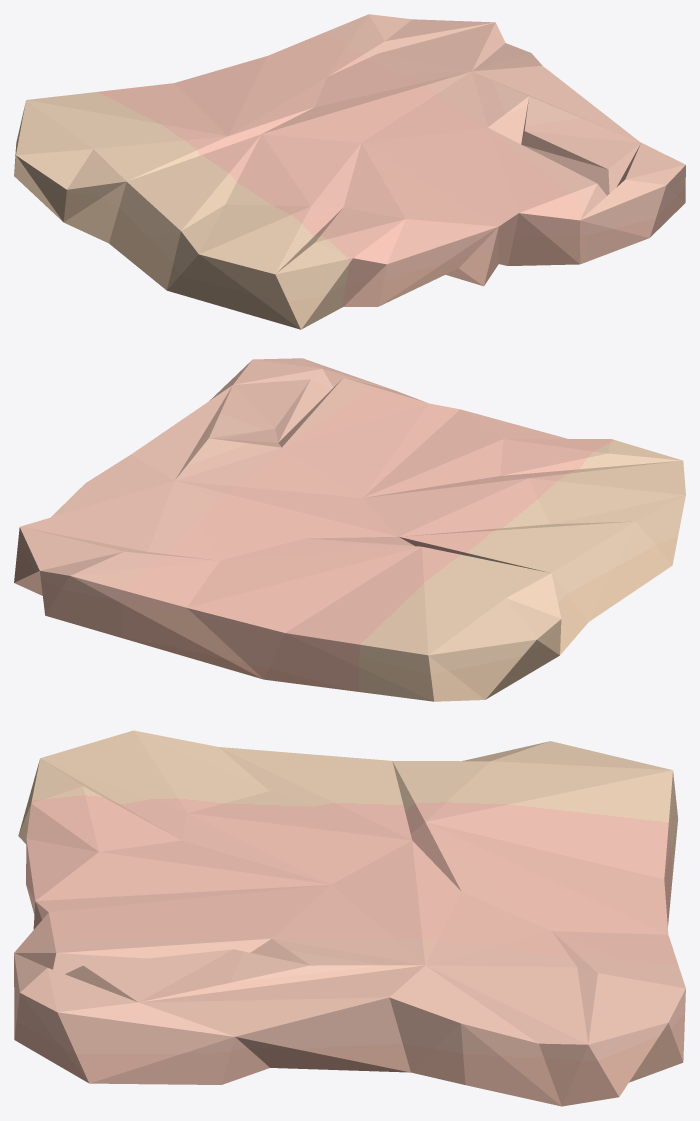
File: DC_Stair1.fbx
The picture shows the model from 3 angles, top to bottom: view 1: azimuth 30°, elevation 25°; view 2: azimuth 150°, elevation 25°; view 3: azimuth 270°, elevation 25°; orthographic projection. The views are drawn at different scales.
Parts seen in each view (by area): view 1: Stair1; view 2: Stair1; view 3: Stair1.
Boxes of the visible parts, bbox=[...] form: Stair1: bbox=[14, 14, 685, 329]; Stair1: bbox=[14, 358, 685, 701]; Stair1: bbox=[14, 730, 685, 1106].
Size of the model in its own units: 3.57 by 0.6038 by 3.32.
1 material, 1 textured.
